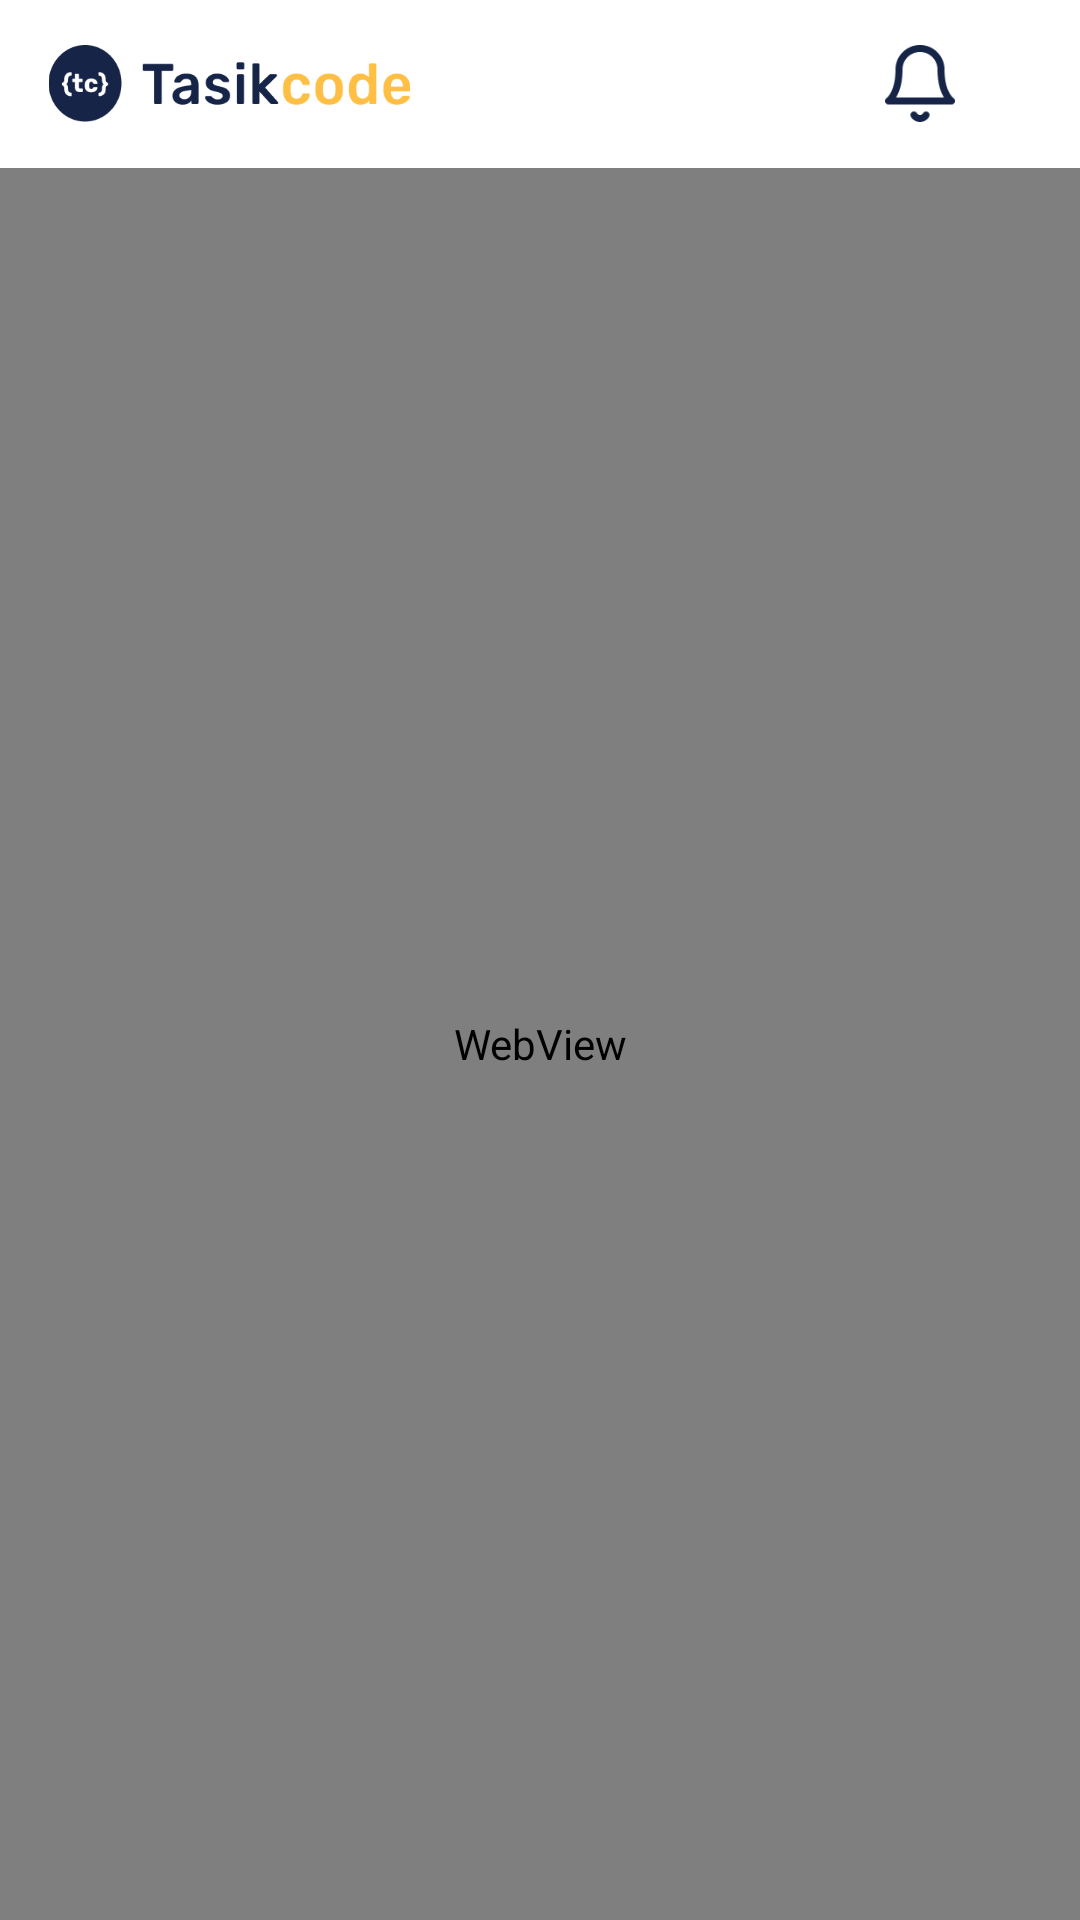

Icon bounding boxes for this 1080x1920 phone screenshot, format (x1, y1, x2, y2):
bell: (885, 45, 955, 122)
